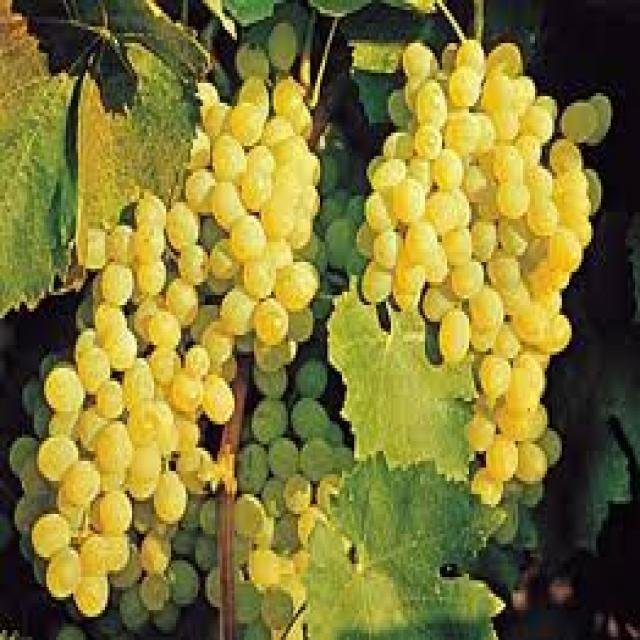Grapes: (252, 159, 306, 237), (147, 350, 202, 406), (475, 228, 524, 288), (489, 153, 530, 216), (97, 311, 135, 372), (540, 173, 588, 220), (129, 402, 168, 453), (425, 188, 467, 235), (136, 227, 165, 295), (61, 468, 106, 509), (276, 262, 316, 308), (485, 88, 520, 140), (210, 136, 247, 185), (82, 535, 128, 573), (44, 363, 82, 409), (547, 225, 582, 274), (211, 182, 247, 228), (154, 475, 189, 522), (130, 450, 161, 503), (32, 517, 73, 557), (484, 434, 518, 482), (511, 299, 548, 343), (91, 497, 133, 535), (222, 288, 257, 332), (235, 447, 267, 494), (258, 298, 290, 344), (256, 398, 291, 440), (299, 439, 334, 481), (391, 182, 426, 224), (231, 222, 265, 265), (405, 221, 439, 264), (167, 563, 200, 607), (293, 400, 330, 439), (203, 377, 235, 422), (149, 310, 183, 352), (362, 261, 395, 304), (563, 105, 598, 145), (98, 429, 132, 470), (46, 557, 80, 597), (515, 446, 548, 487), (181, 244, 213, 286), (39, 439, 75, 476), (169, 283, 200, 325), (510, 370, 538, 416), (266, 442, 299, 481), (274, 88, 304, 130), (78, 351, 109, 391), (167, 205, 197, 246), (371, 234, 405, 270), (235, 497, 263, 540), (441, 317, 469, 360), (282, 473, 311, 514), (228, 108, 264, 141), (472, 293, 502, 332), (481, 359, 508, 402), (418, 89, 446, 130), (435, 151, 464, 190), (204, 324, 232, 364), (97, 381, 125, 420), (451, 73, 482, 107), (142, 535, 169, 573), (454, 264, 484, 297), (104, 268, 133, 302), (528, 111, 552, 145)
